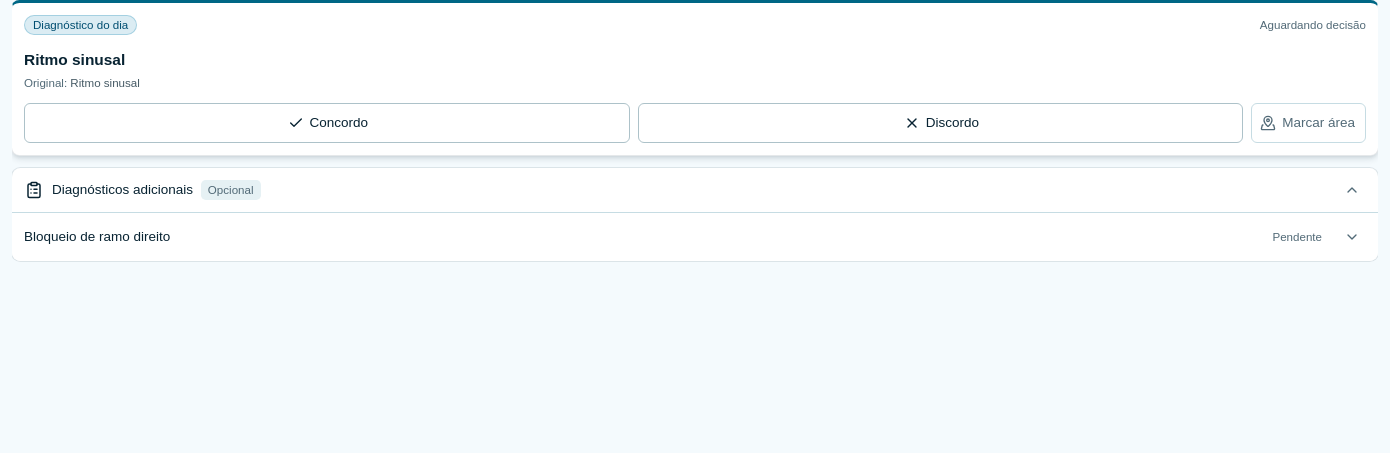
DiagnosisPanel › mostra os badges clínicos do opcional expandido antes do Original e da decisão
What coordinates should you click on to do the following:
click the button "Bloqueio de ramo direito Pendente"
I would click on:
 (97, 236)
Its box is [12, 213, 1378, 261].
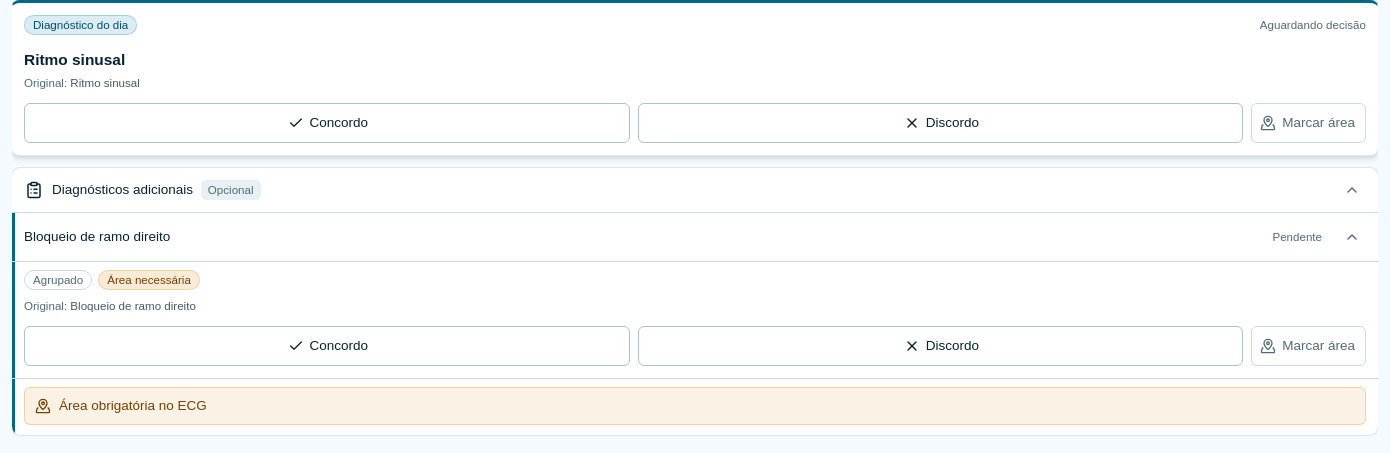
Result: the text "Agrupado" is shown at [24, 270, 92, 290]
Result: the text "Área necessária" is shown at [98, 270, 200, 290]
